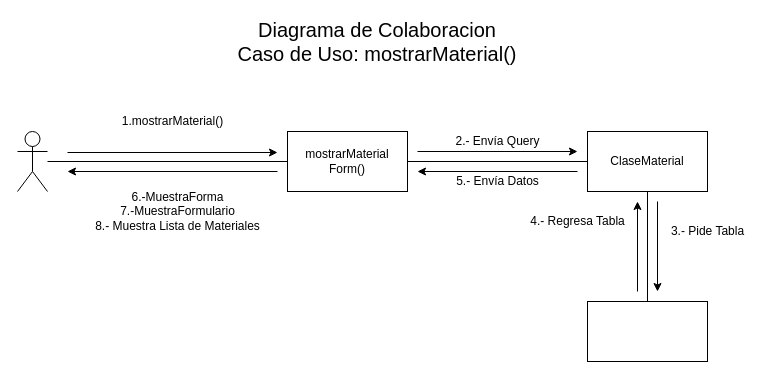
This 761x379 diagram has some shape labels left out. The box of each missing label's shape, as (x1, y1, x2, y2) in pixels:
Actor: (16, 130, 48, 192)
BaseDatos: (586, 300, 708, 362)
